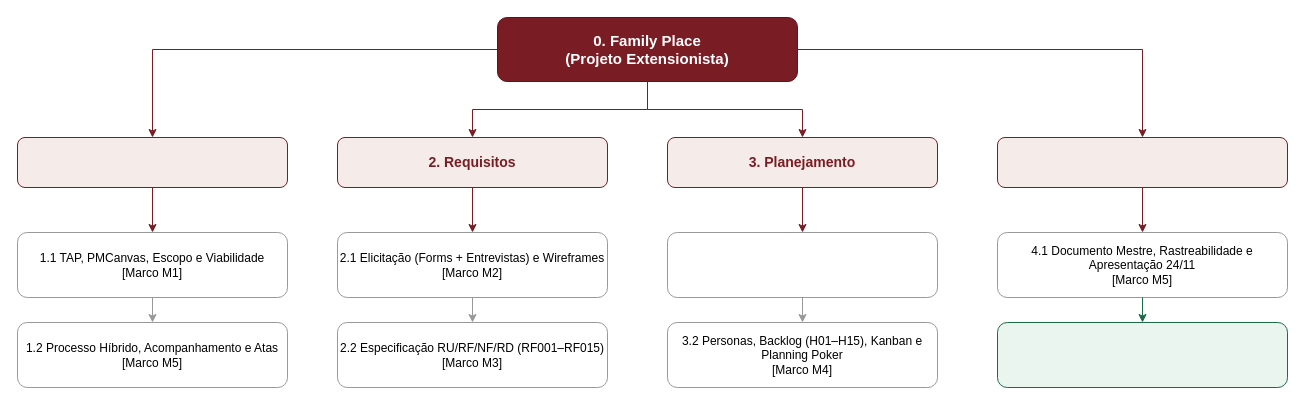
Some shapes in this 1305 by 405 pixel diagram are drawn without their labels. Each missing label, with the centre of its shape:
"1. Gestão" belongs at pixel 152 162.
"3.1 EAP, Marcos e Cronograma (Sommerville +50%) [Marco M4]" belongs at pixel 802 265.
"4. Entrega e MVP" belongs at pixel 1142 162.
"4.2 MVP React (RF001–RF009 Must) e Entrega Final 08/12 [Marco M6]" belongs at pixel 1142 355.
